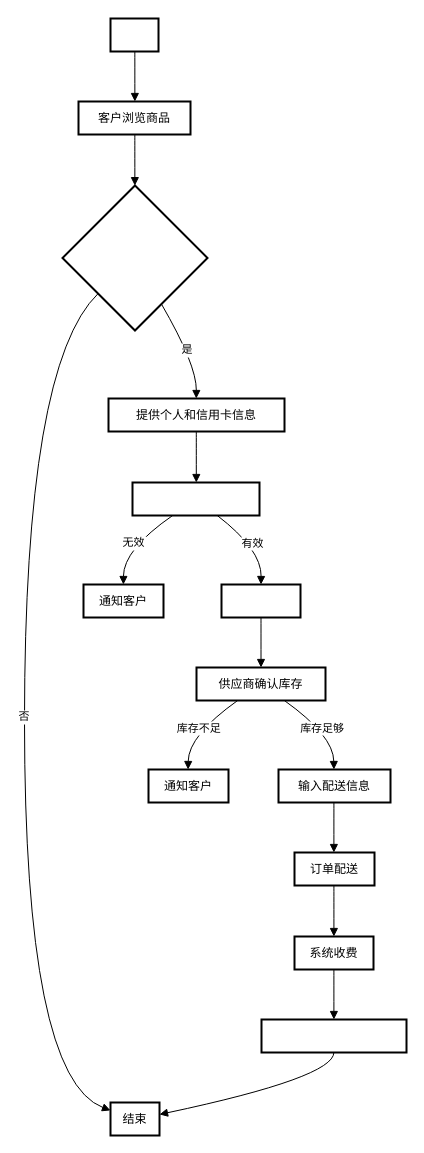
This 424x1153 diagram has some shape labels left out. The centre of each missing label's shape, as x and y in pixels:
"创建订单" goes at pixel 260 600.
"开始" goes at pixel 134 34.
"是否选择购买" goes at pixel 134 257.
"系统验证信用卡" goes at pixel 195 498.
"通知客户订单完成" goes at pixel 333 1035.
